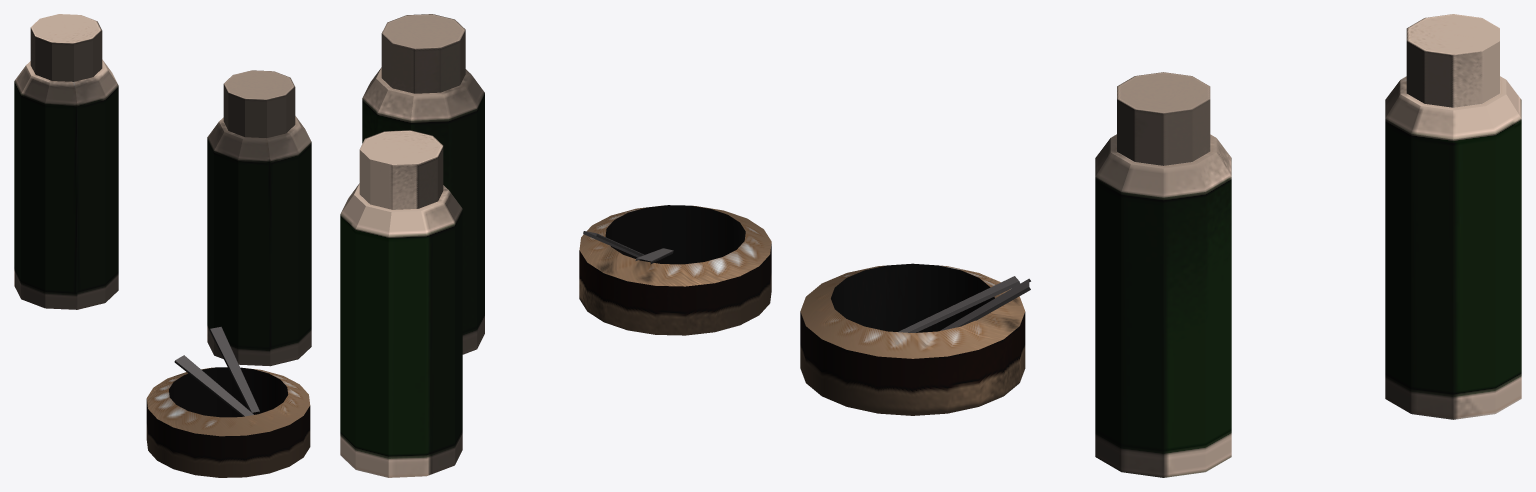
The model's file is Tx_prop_barber_desk_prop_2.fbx.
3 views of the same model, side by side, from view 1: azimuth 30°, elevation 25°; view 2: azimuth 150°, elevation 25°; view 3: azimuth 270°, elevation 25° (orthographic). The views are drawn at different scales.
Parts seen in each view (by area): view 1: Tx_prop_barber_desk_props; view 2: Tx_prop_barber_desk_props; view 3: Tx_prop_barber_desk_props.
Boxes of the visible parts, box(x1,y1,x2,y2) form: Tx_prop_barber_desk_props: box(14, 14, 311, 477); Tx_prop_barber_desk_props: box(340, 14, 771, 477); Tx_prop_barber_desk_props: box(800, 14, 1521, 477).
Size of the model in its own units: 1.14 by 1.19 by 2.17.
